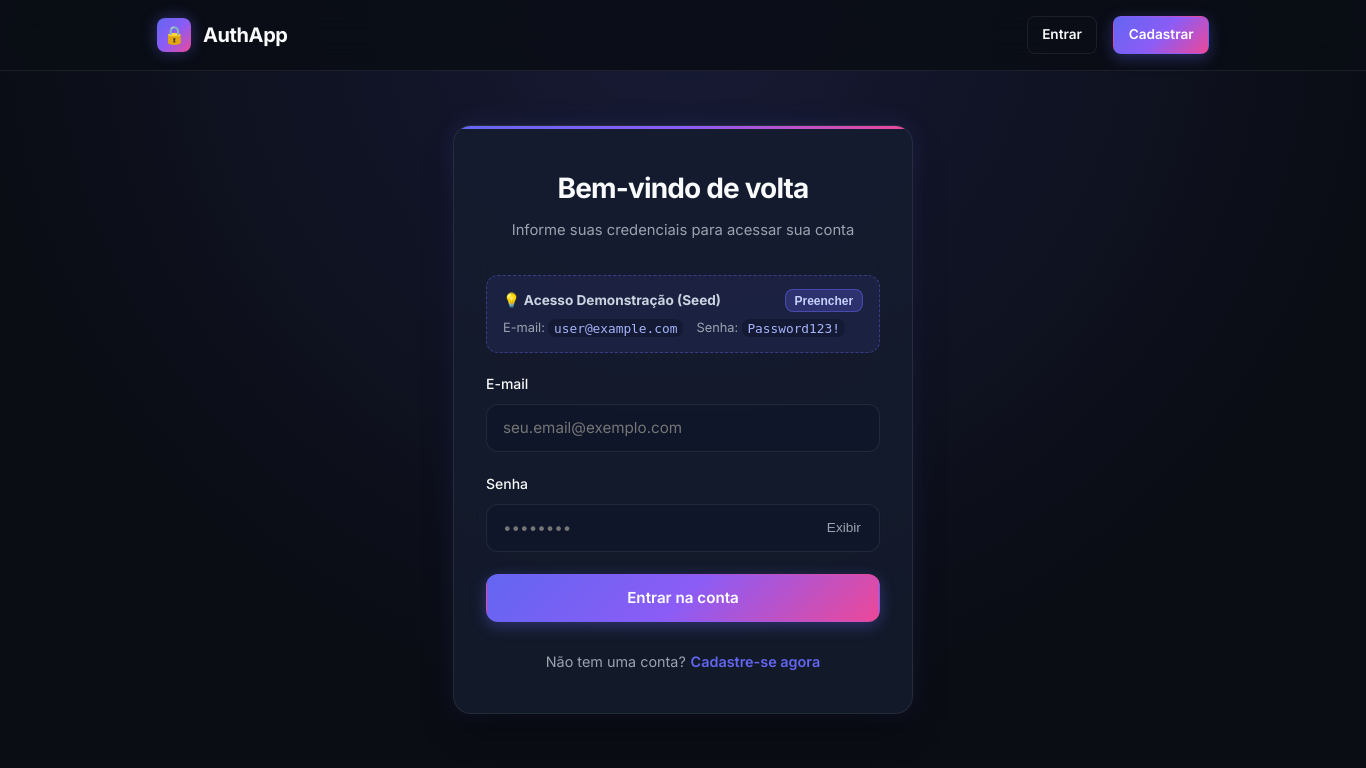
Test: Fluxo Integrado de Autenticação (Integration Tests) › Fluxo completo: Login -> Dashboard com dados do perfil -> Logout seguro
Expected: the element with test id "login-card" is shown, [453, 125, 913, 714]
Note: Preenche formulário de login e submete
In the field with test id "input-email": point(683, 428) [486, 404, 880, 452], type "bernardo@exemplo.com"
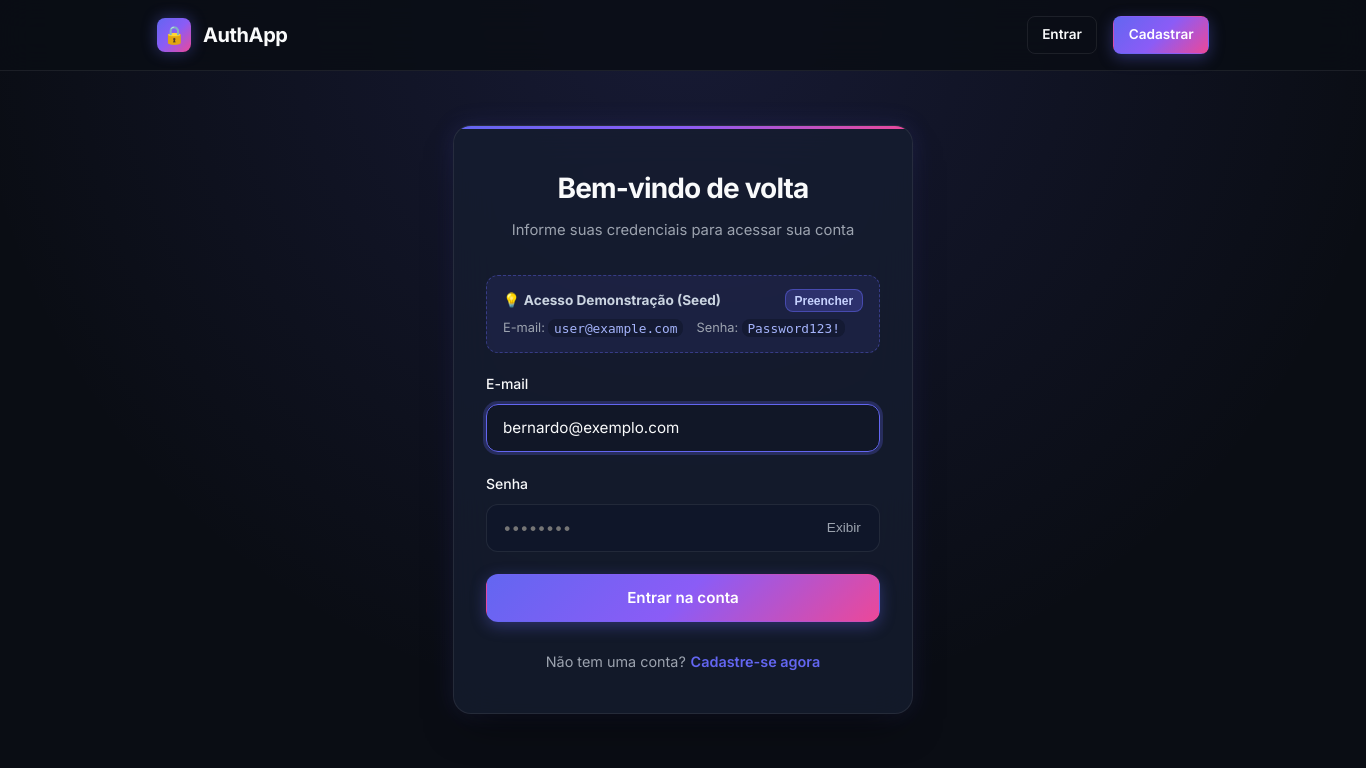
In the password field with test id "input-password": point(683, 528) [486, 504, 880, 552], type "SenhaForte123"
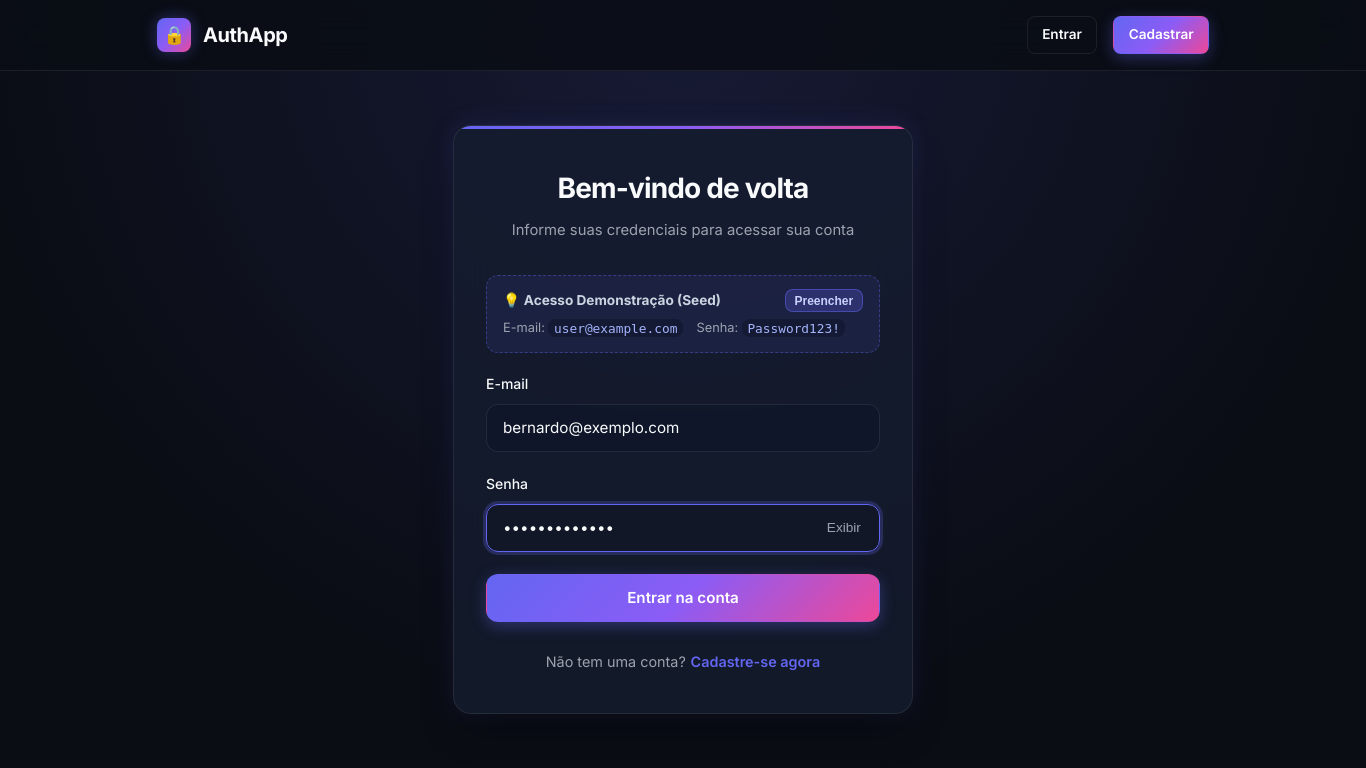
Click the button with test id "submit-login-button": point(683, 598) [486, 574, 880, 622]
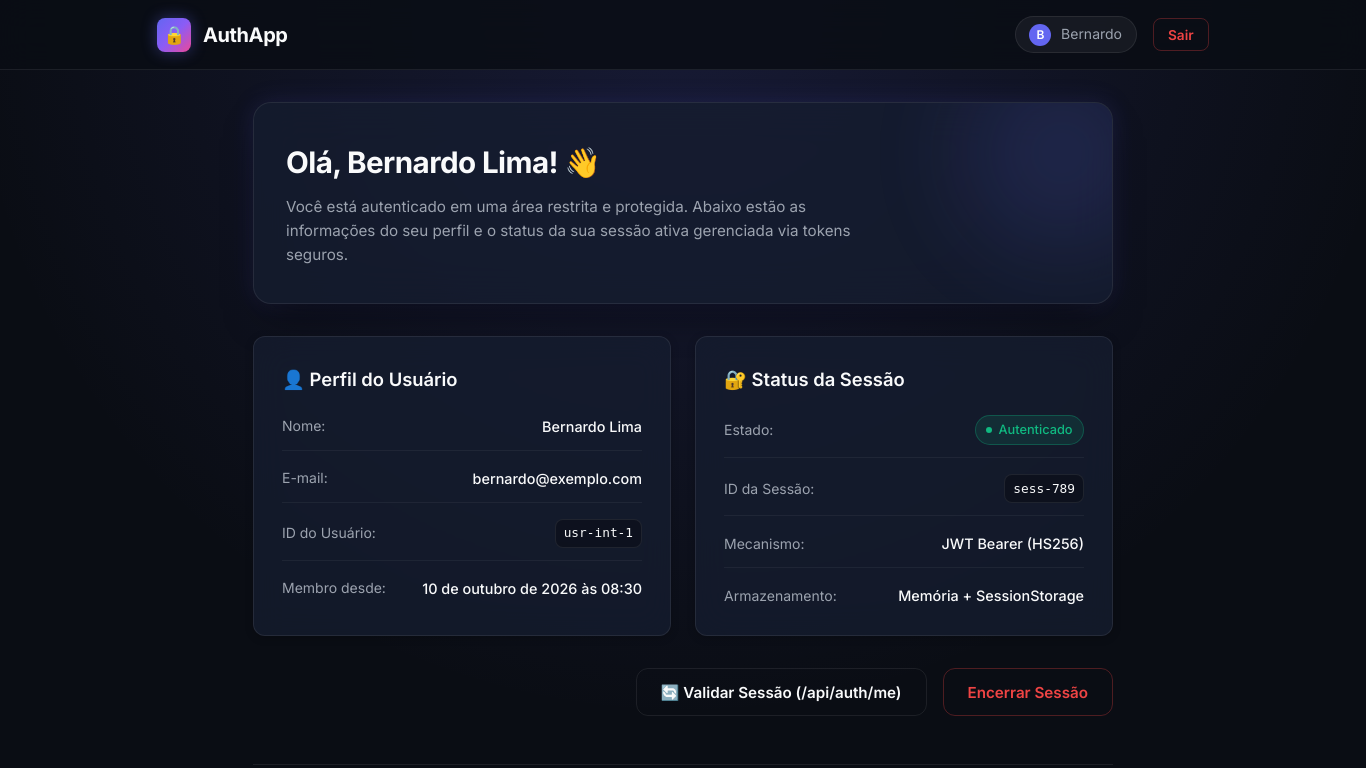
Result: the text with test id "user-name-display" reads "Bernardo Lima" at [542, 418, 642, 435]
Result: the text with test id "user-email-display" reads "bernardo@exemplo.com" at [473, 470, 642, 487]
Result: the text with test id "user-id-display" reads "usr-int-1" at [564, 525, 633, 540]
Note: Aciona o botão de logout no Dashboard
Click the button with test id "dashboard-logout-button": point(1028, 692) [942, 668, 1113, 716]
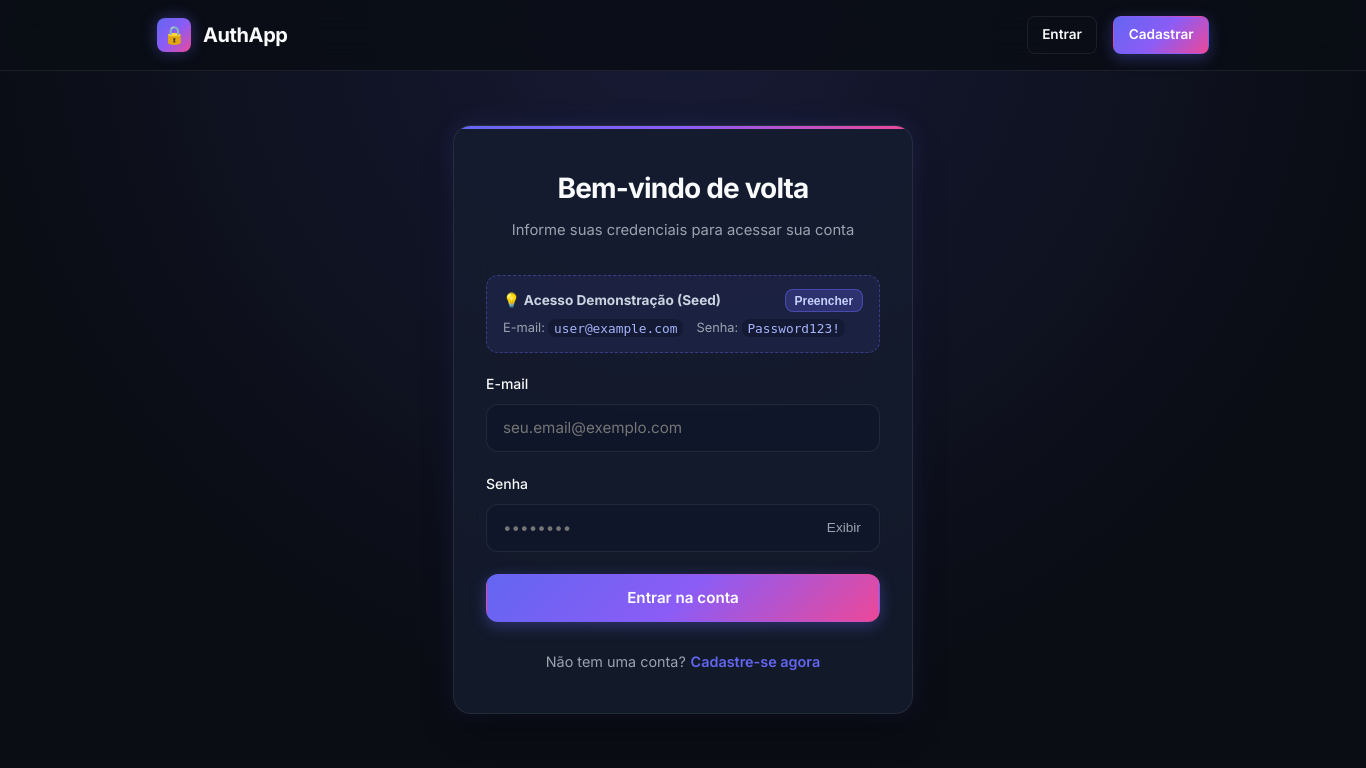
Result: the element with test id "login-card" is shown at [453, 125, 913, 714]
